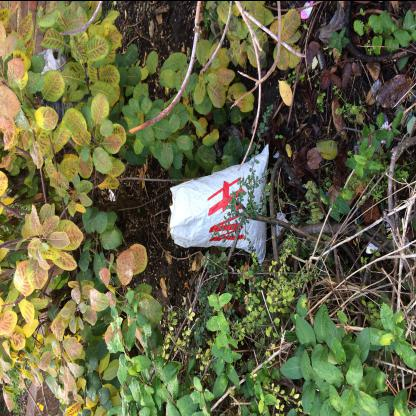plastik: (168, 143, 268, 267)
